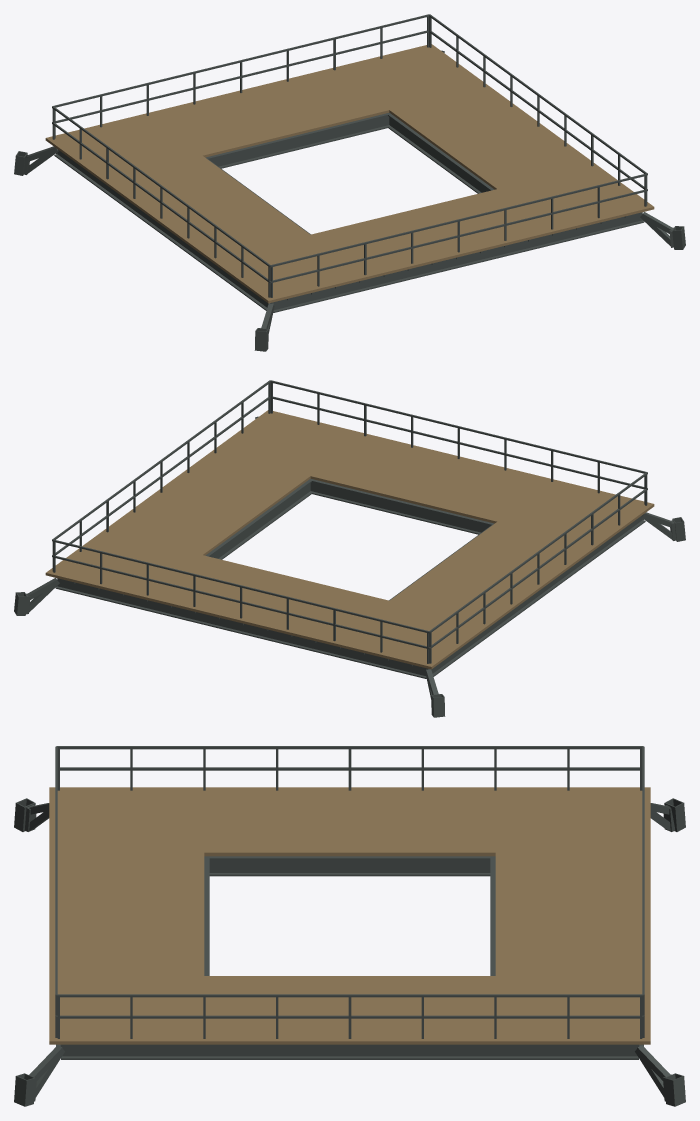
The model's file is platform.glb.
The picture shows the model from 3 angles, top to bottom: view 1: azimuth 30°, elevation 25°; view 2: azimuth 150°, elevation 25°; view 3: azimuth 270°, elevation 25°; orthographic projection. The views are drawn at different scales.
Parts seen in each view (by area): view 1: relay-platform-deck.003, relay-platform-structure.003; view 2: relay-platform-deck.003, relay-platform-structure.003; view 3: relay-platform-deck.003, relay-platform-structure.003.
Boxes of the visible parts, x1,y1,x2,y2 form: relay-platform-deck.003: [45, 44, 654, 303]; relay-platform-structure.003: [14, 14, 685, 351]; relay-platform-deck.003: [45, 410, 654, 669]; relay-platform-structure.003: [14, 380, 685, 717]; relay-platform-deck.003: [49, 787, 650, 1044]; relay-platform-structure.003: [14, 746, 685, 1106].
Bounding box in the file's own units: 14.31 × 2.24 × 14.31.
